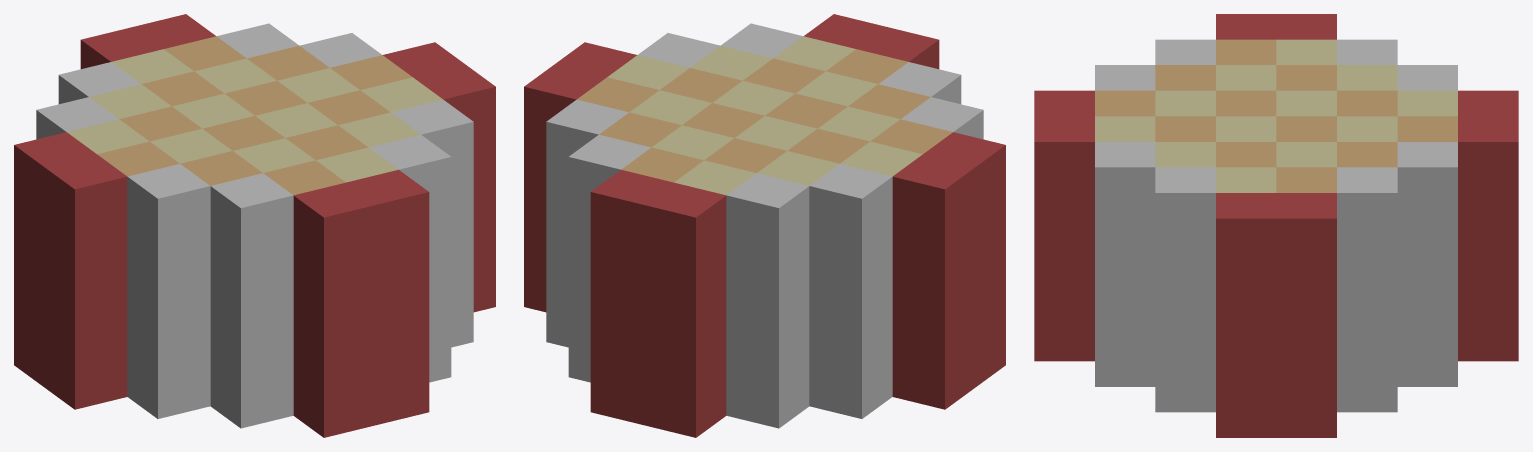
The model's file is Pilar_2.glb.
The picture shows the model from 3 angles, left to right: view 1: azimuth 30°, elevation 25°; view 2: azimuth 150°, elevation 25°; view 3: azimuth 270°, elevation 25°; orthographic projection.
Parts seen in each view (by area): view 1: Palomitas; view 2: Palomitas; view 3: Palomitas.
Part boxes in pixels (box(x1,y1,x2,y2)): Palomitas: box(14, 14, 495, 437); Palomitas: box(524, 14, 1005, 437); Palomitas: box(1034, 14, 1518, 437).
Bounding box in the file's own units: 8 × 4 × 8.
